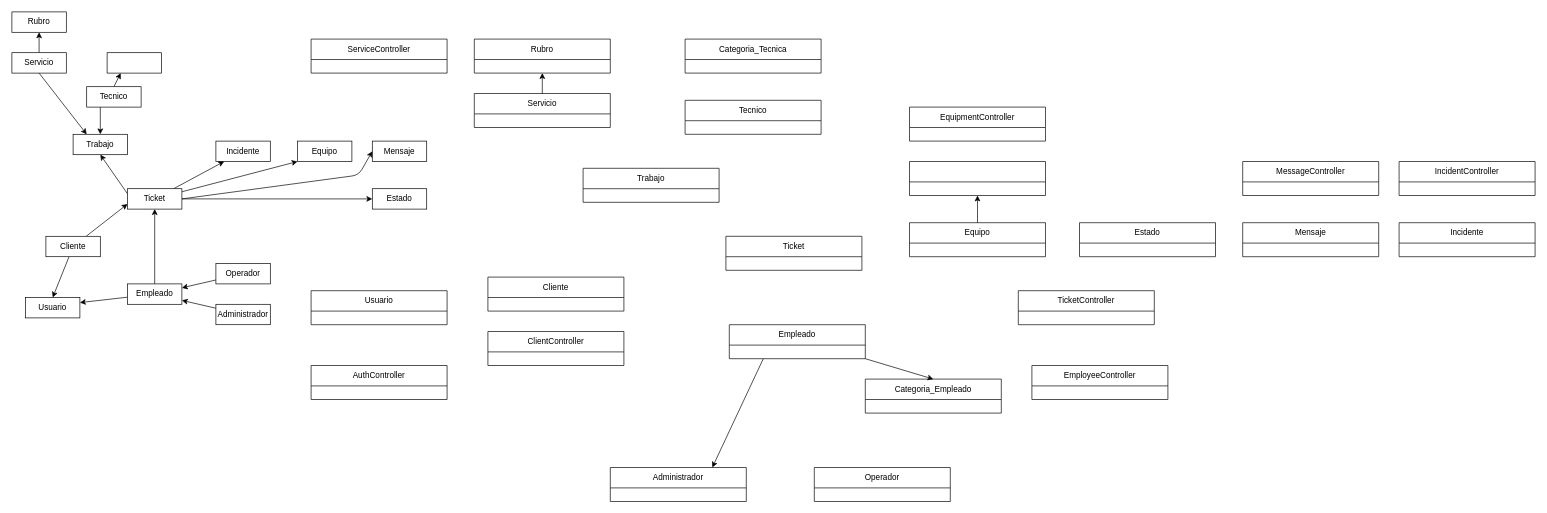
Some shapes in this 1547 by 513 pixel diagram are drawn without their labels. The shapes that lost their labels are listed below. From the top down, each one's centre as x and y in pixels, then its label:
At point 134,62: "Cat Tecnica".
At point 977,178: "Categoria_Equipo".
